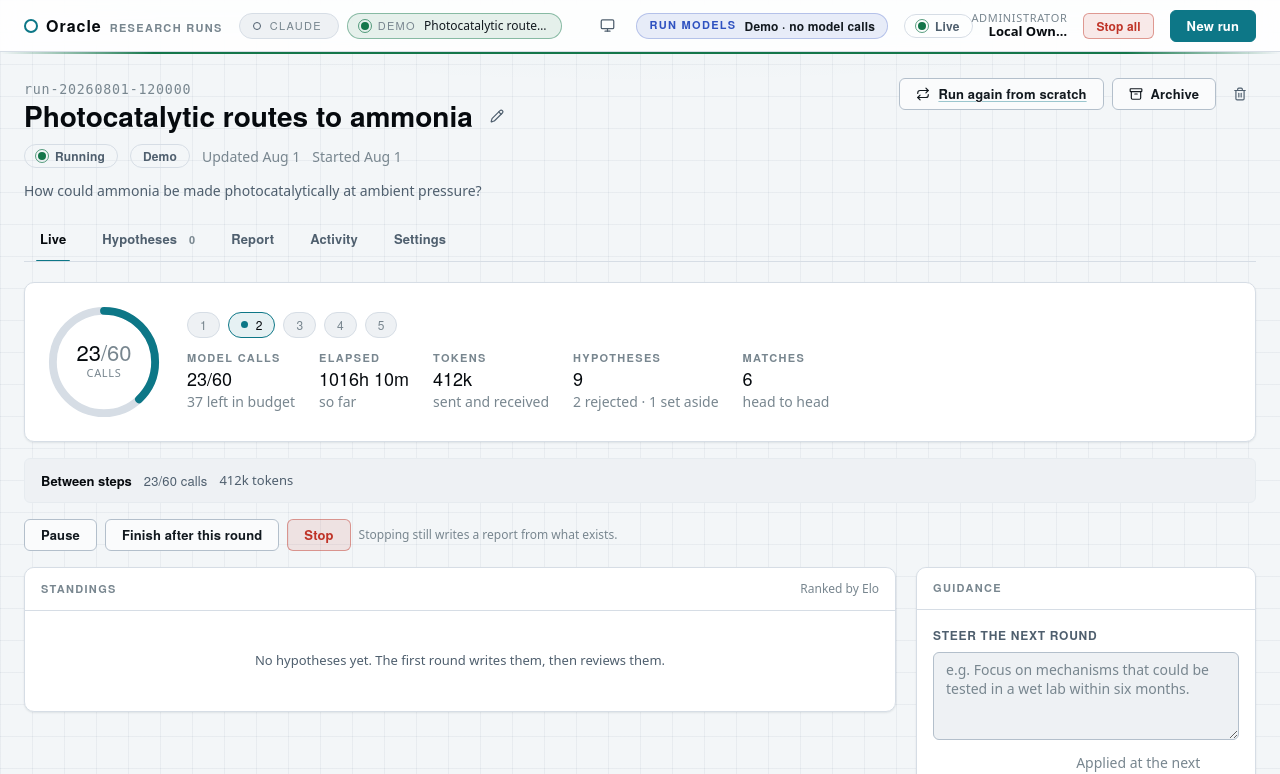
Test: model indicator — a run › refuses to invent models for a demo run
The image size is (1280, 774).
Click the button with aria-label "Run models:" at (762, 26), box top-left (636, 12), bottom-right (888, 38)
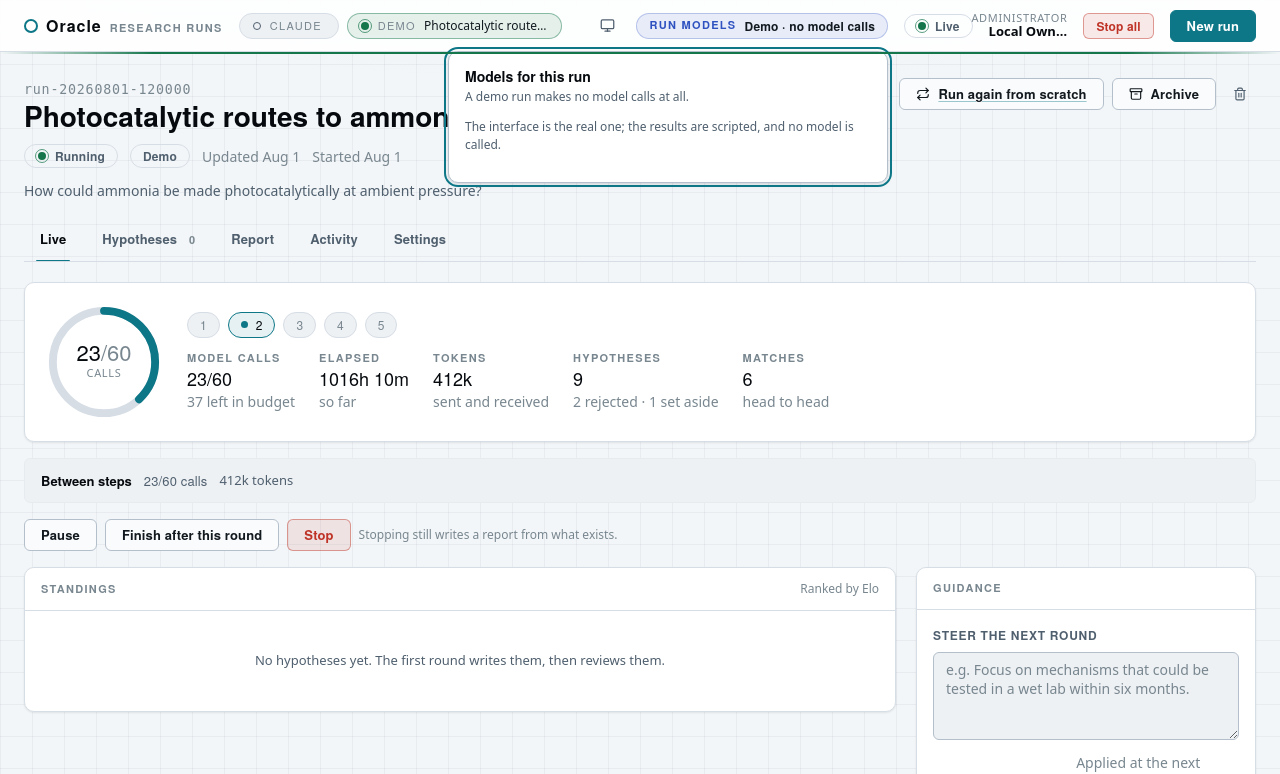
Check: the element "Models for this run" shows "makes no model calls", box top-left (465, 88), bottom-right (689, 105)
